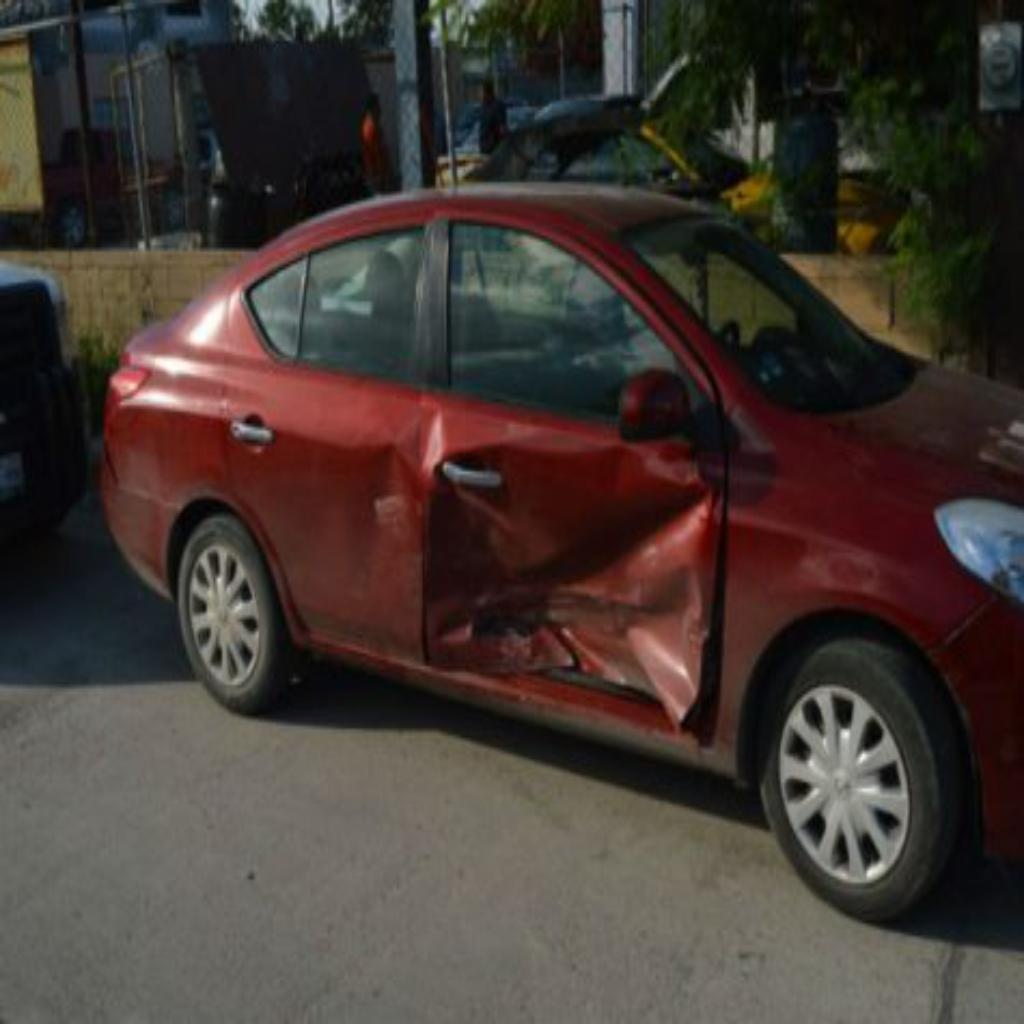Dent: (399, 442, 732, 771)
